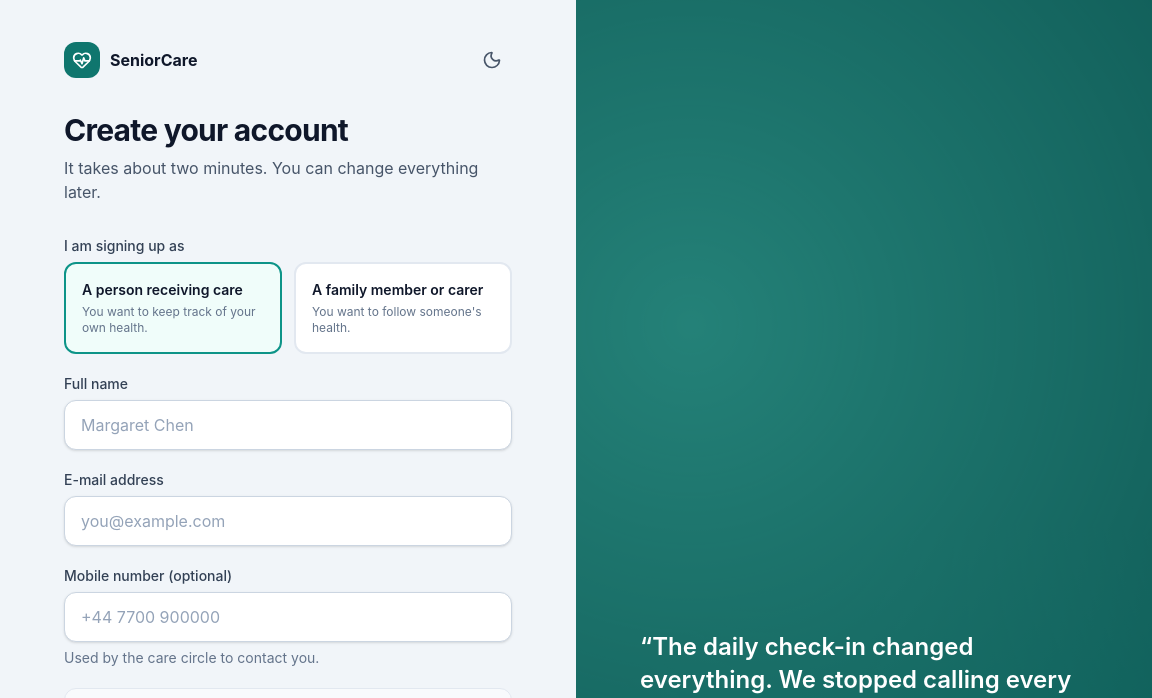
Scenario: Register form › requires a number in the password
Type "Margaret Whitfield" into the field labelled "Full name" at (288, 425), box 64,400 -> 512,450
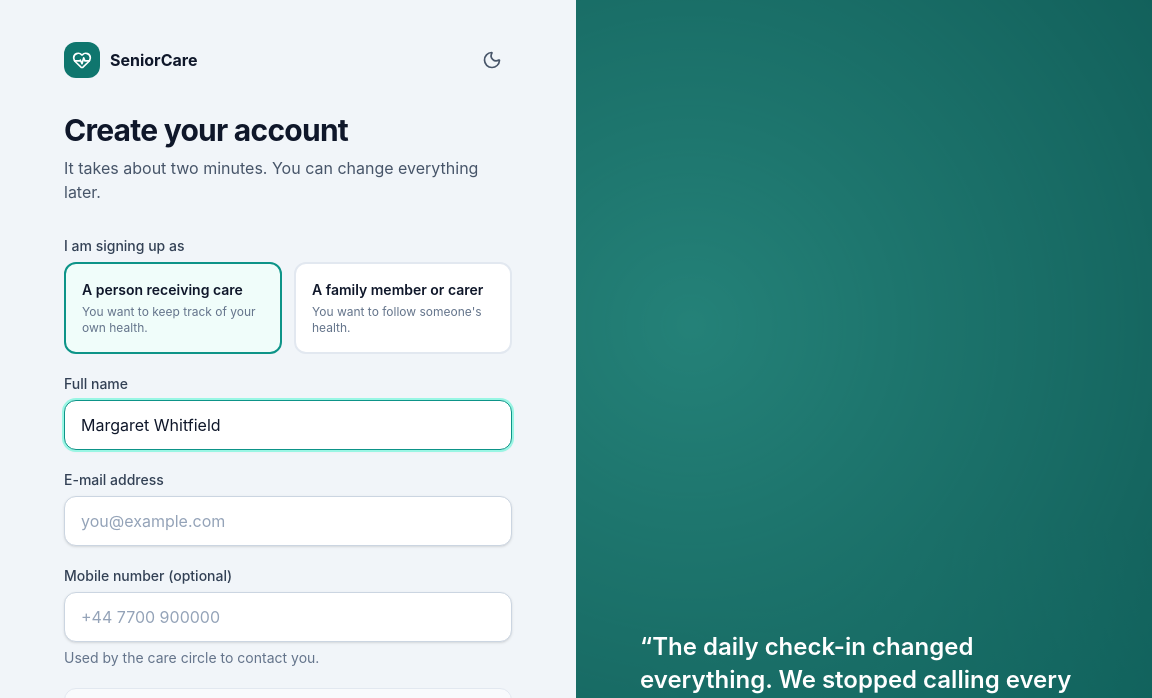
Type "margaret@example.com" into the field labelled "E-mail address" at (288, 521), box 64,496 -> 512,546
(page scrolled)
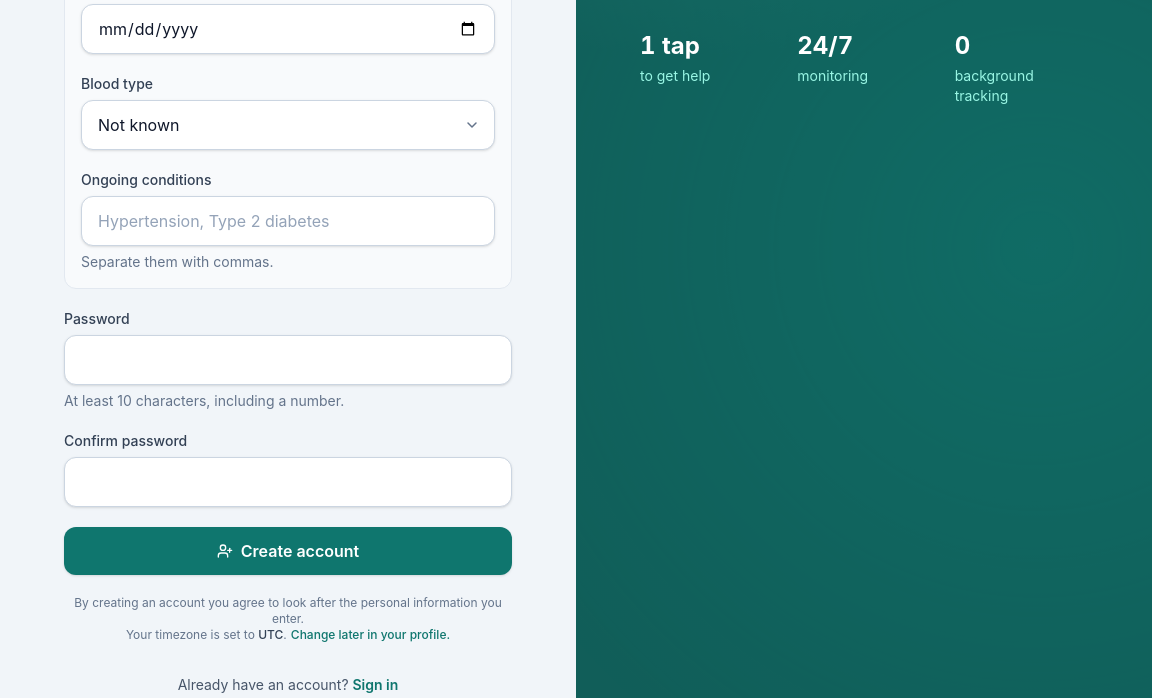
Type "onlyletters" into the password field labelled "Password" at (288, 360), box 64,335 -> 512,385
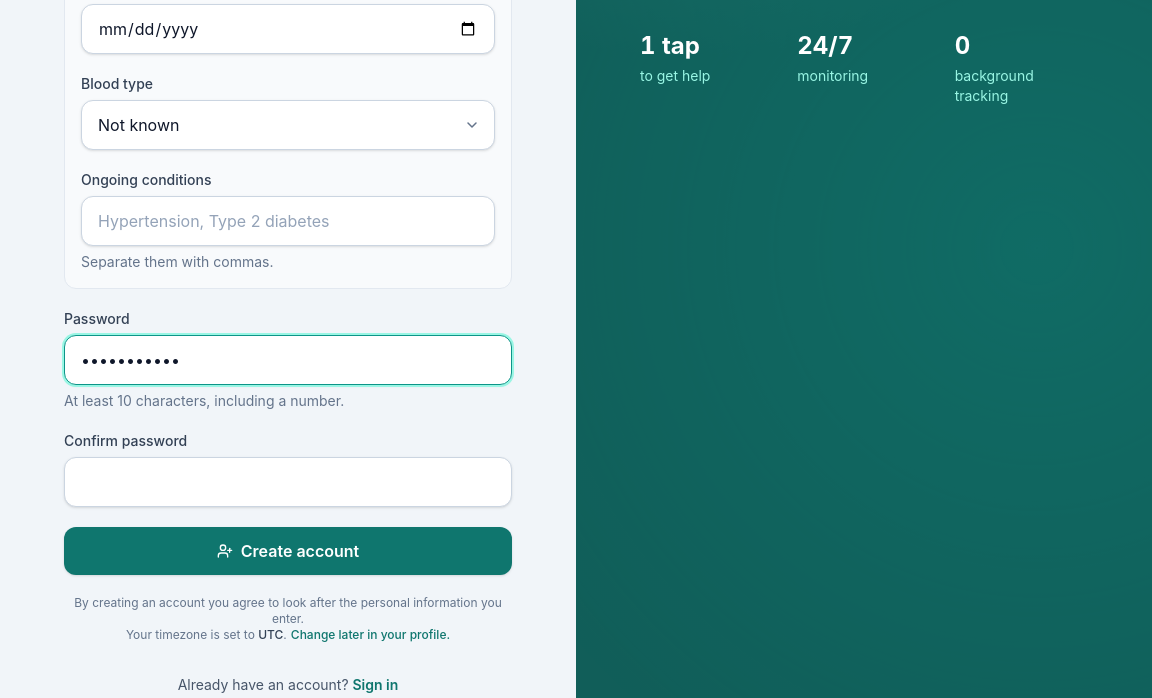
Type "onlyletters" into the password field labelled "Confirm password" at (288, 482), box 64,457 -> 512,507
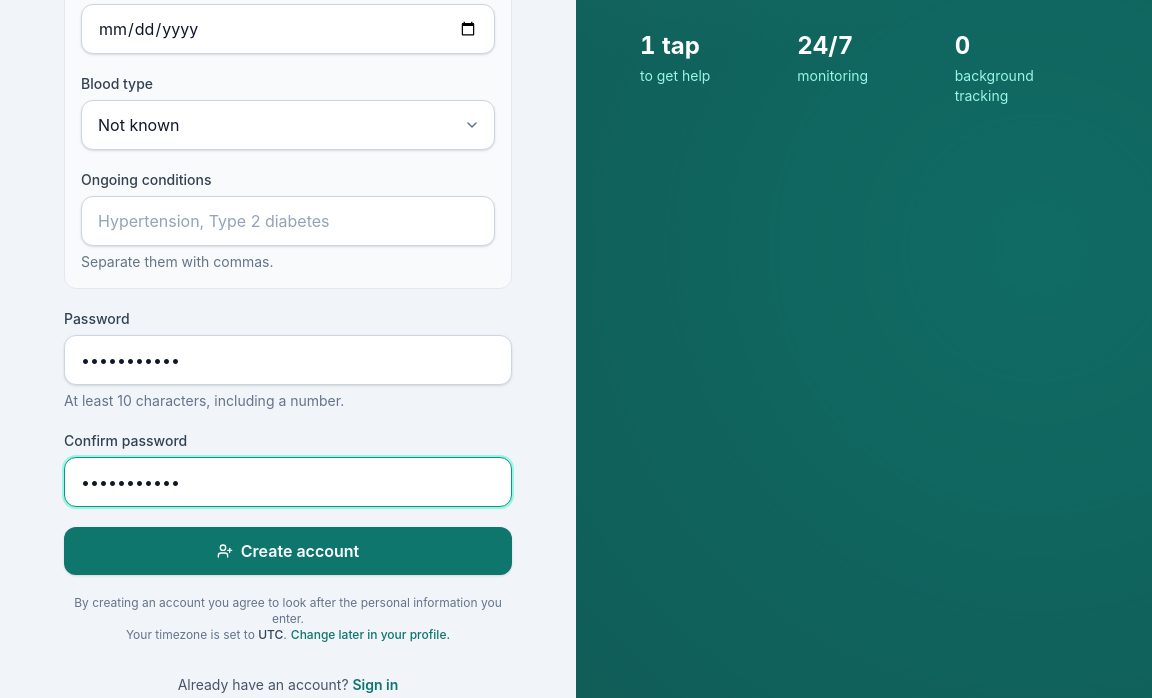
Click the button "Create account" at (288, 551), box 64,527 -> 512,575
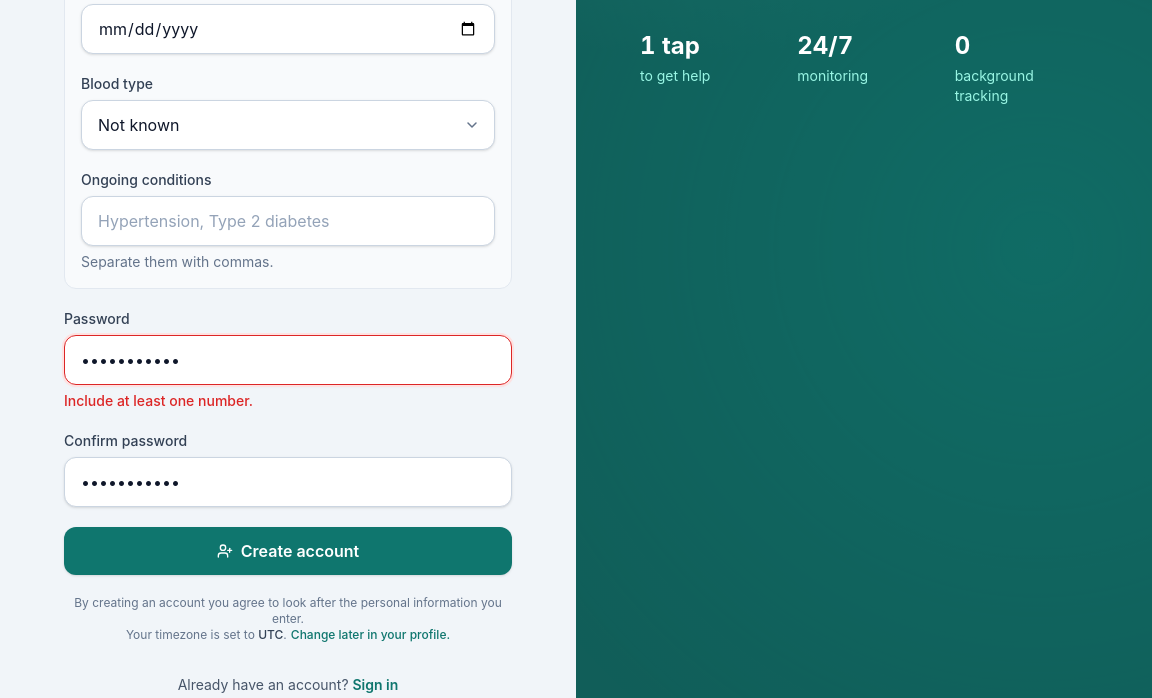
Check: the text "Include at least one number." is shown, box 64,392 -> 253,409
